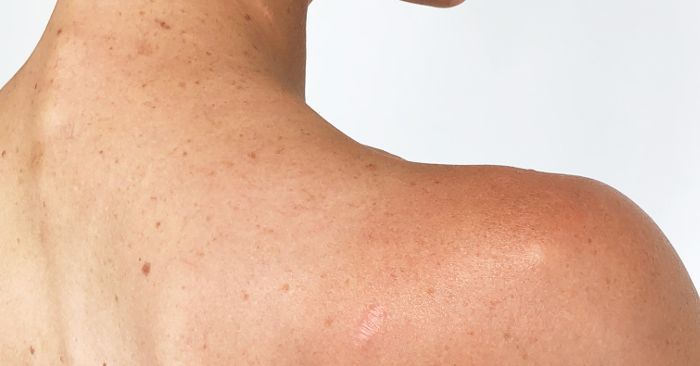melanoma: (49, 19, 306, 186)
